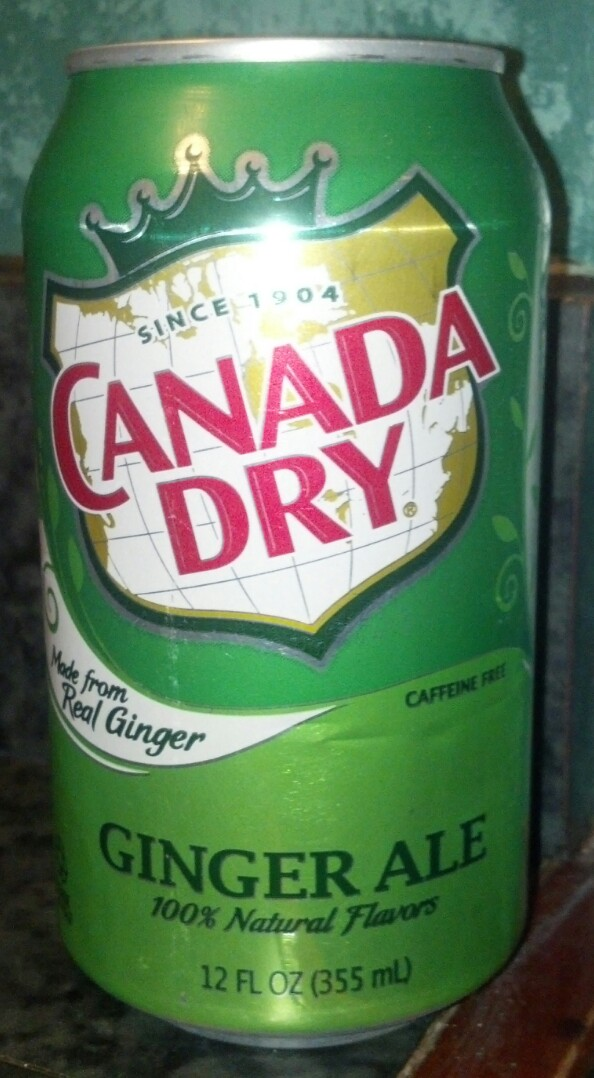Lata: (14, 35, 574, 1062)
